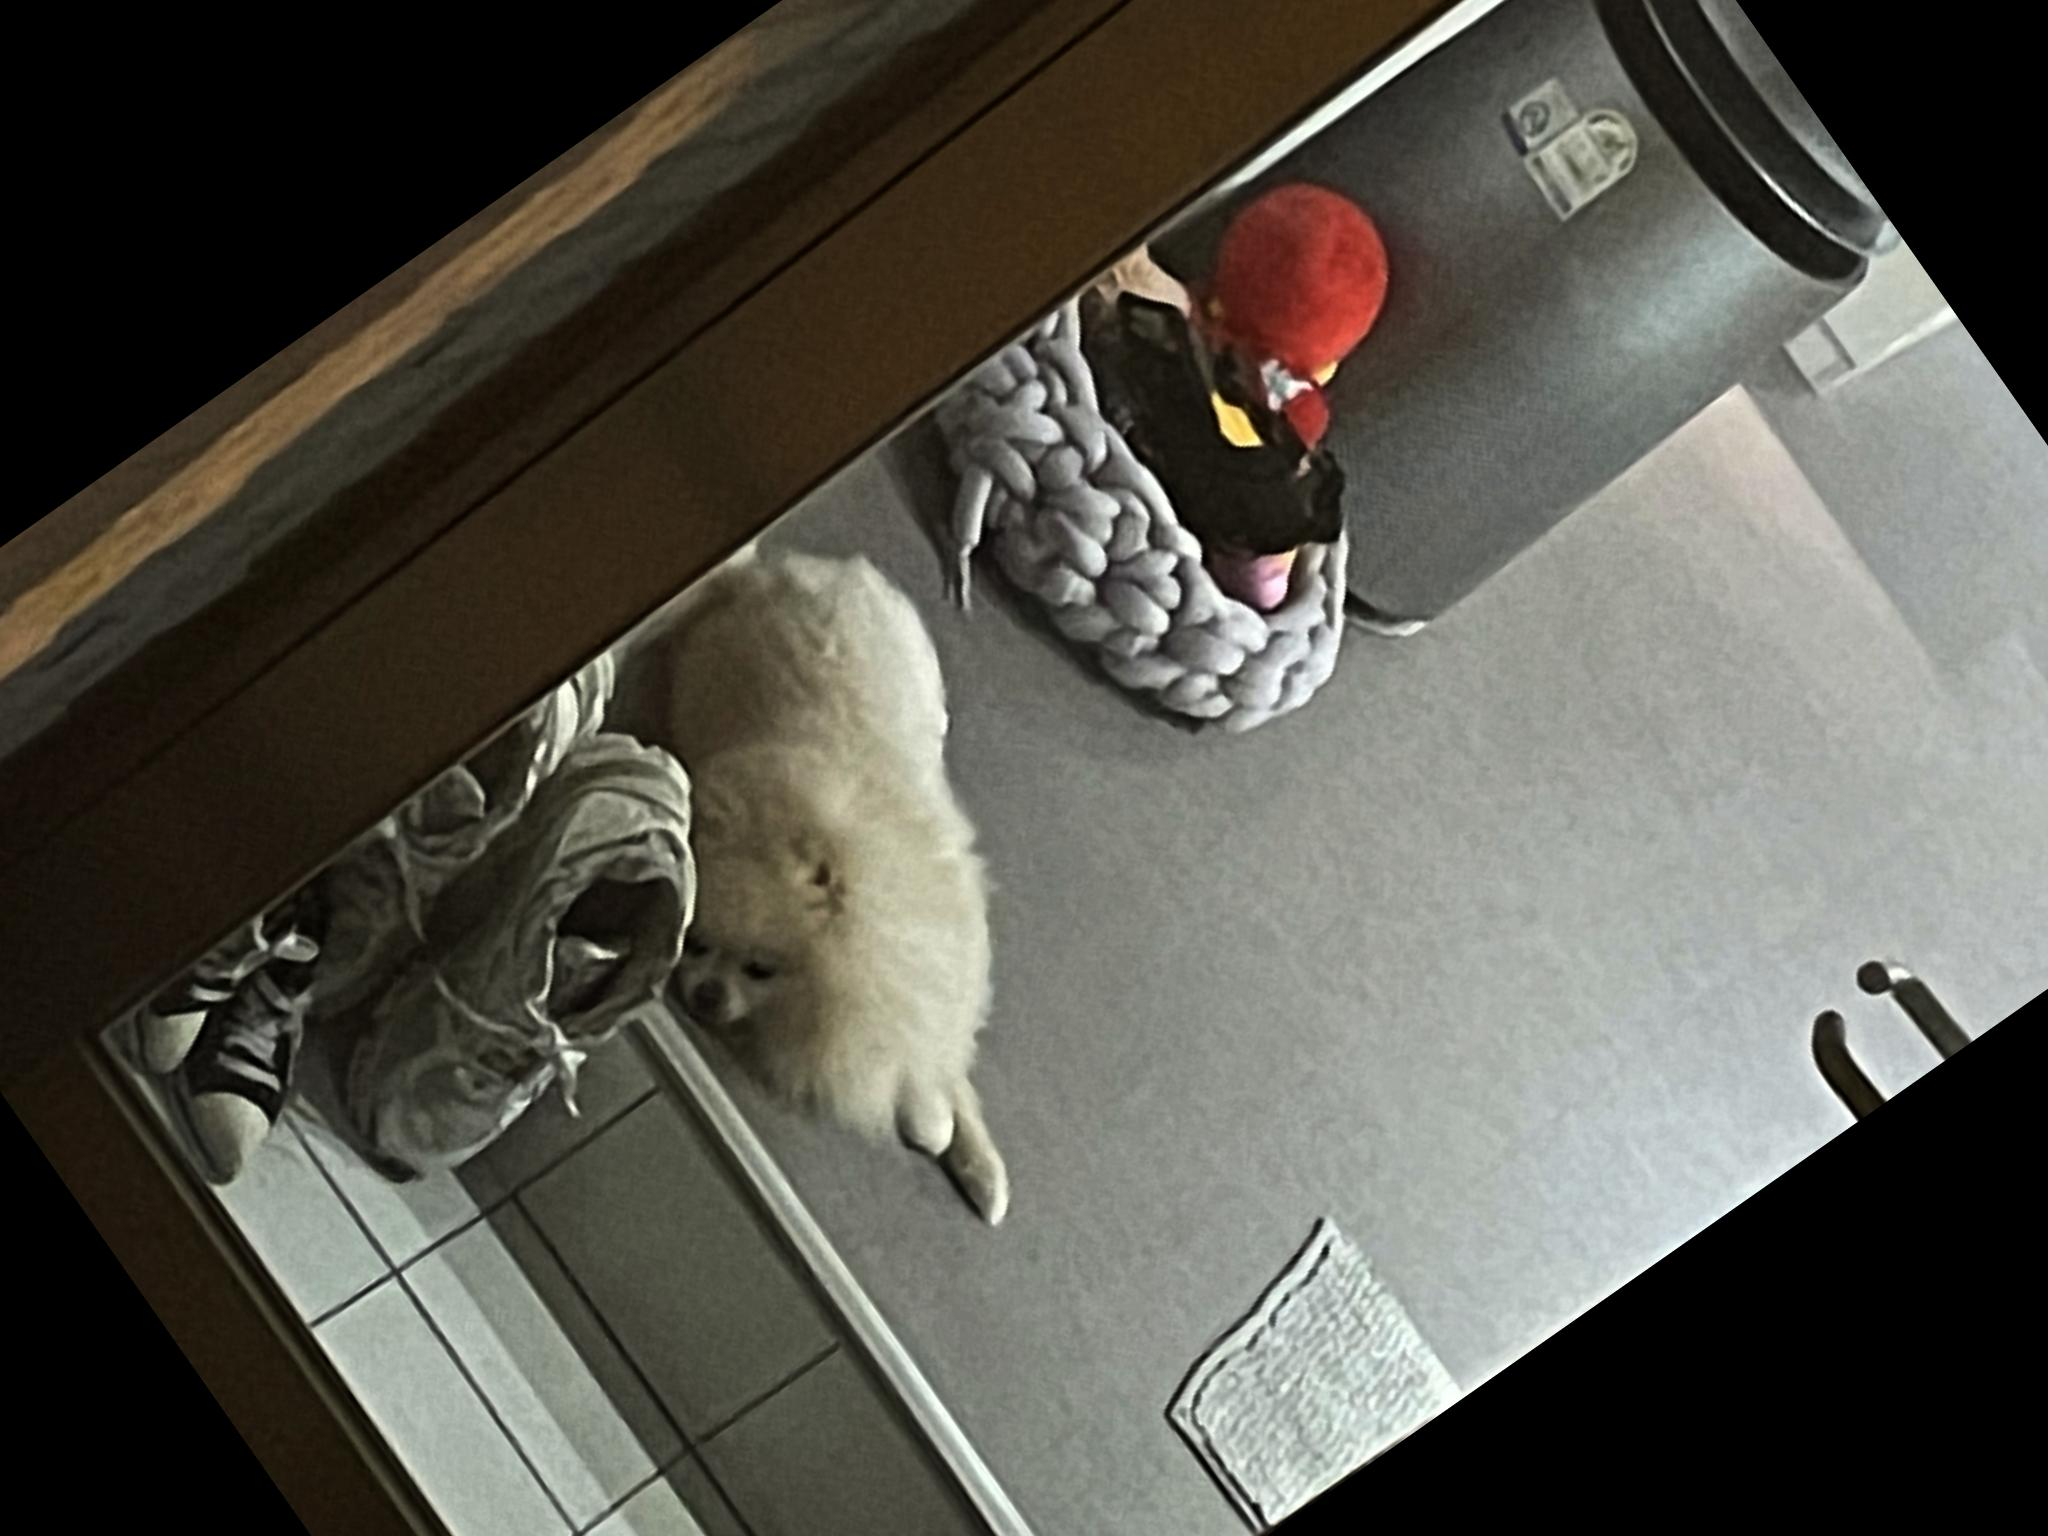dog: (1097, 613, 1919, 1370)
